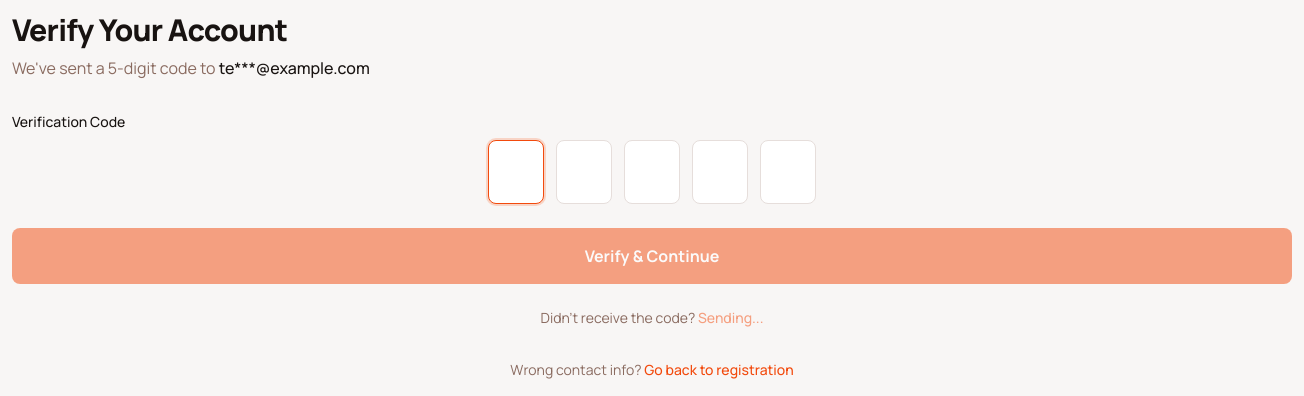
Test: VerifyPage › OTP input handling › handles paste of full OTP code
Type "12345" into the field with test id "verify-otp-input-0" at (516, 172), box [488,140,544,204]
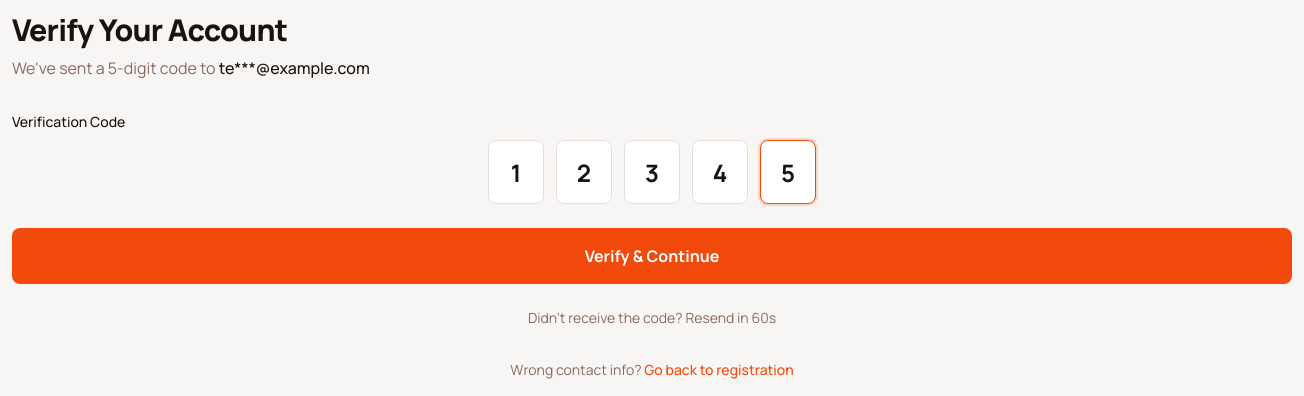
Expected: the field with test id "verify-otp-input-0" holds "1", [488,140,544,204]
Expected: the field with test id "verify-otp-input-1" holds "2", [556,140,612,204]
Expected: the field with test id "verify-otp-input-2" holds "3", [624,140,680,204]
